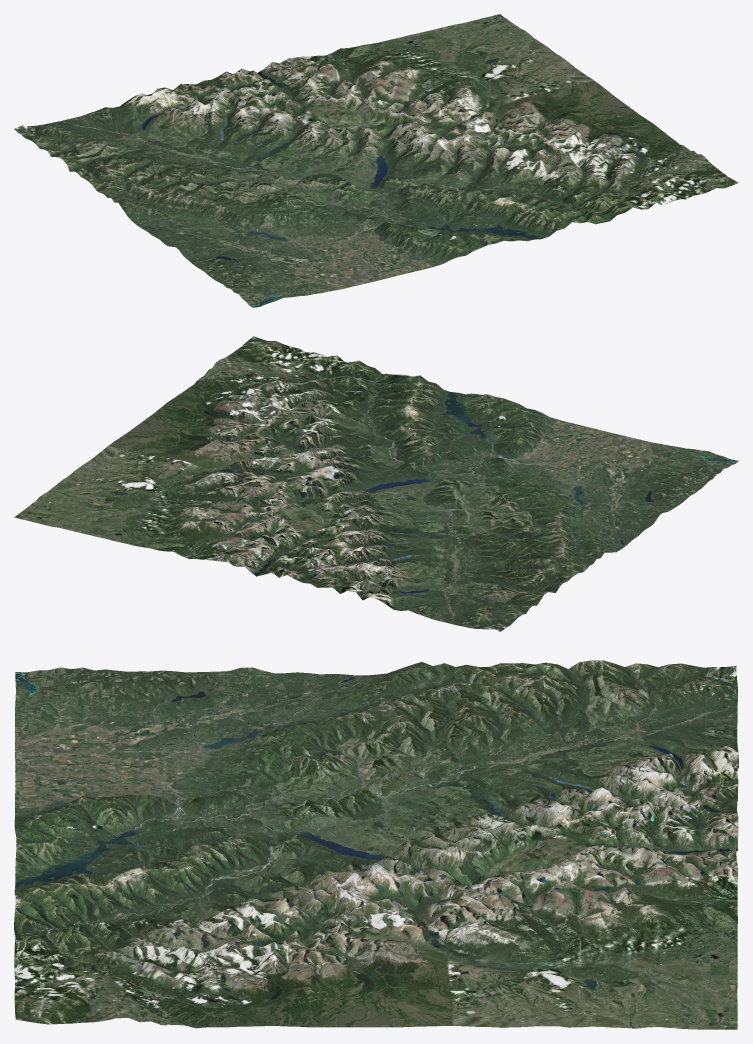
The model's file is terrain_map.glb.
3 renders of one model, top to bottom at view 1: azimuth 30°, elevation 25°; view 2: azimuth 150°, elevation 25°; view 3: azimuth 270°, elevation 25°, orthographic. The views are drawn at different scales.
Visible parts, largest first — view 1: Object_3; view 2: Object_3; view 3: Object_3.
Part boxes in pixels (bbox=[...]): Object_3: bbox=[14, 14, 738, 307]; Object_3: bbox=[14, 336, 738, 631]; Object_3: bbox=[14, 660, 738, 1029].
Bounding box in the file's own units: 166676 × 5368 × 142372.
Materials: 1 (1 with a texture image).
